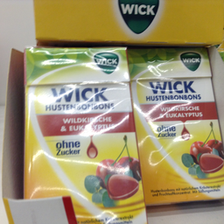candy: (20, 47, 147, 224), (126, 48, 224, 205)
